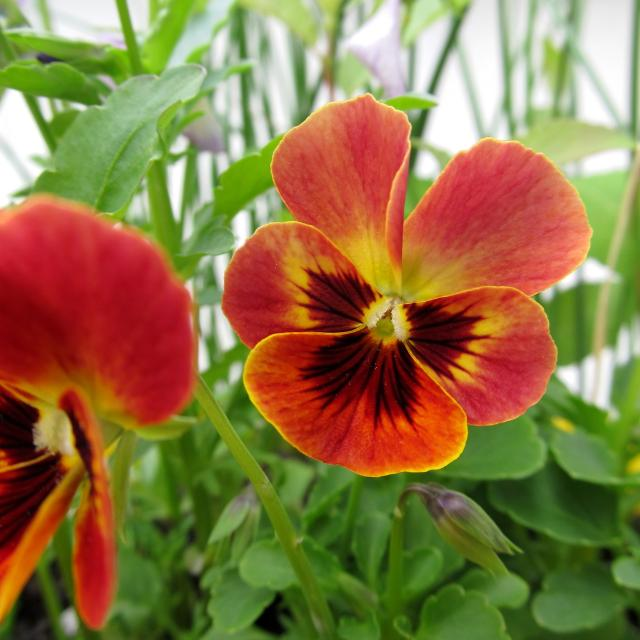Flower: (222, 92, 596, 480), (0, 190, 194, 430), (68, 489, 124, 628), (436, 494, 512, 578)
